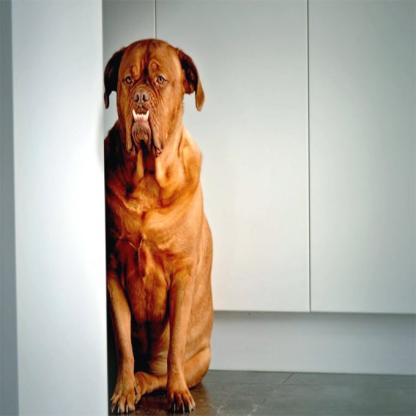Douge De Bordeaux: (101, 33, 215, 415)
